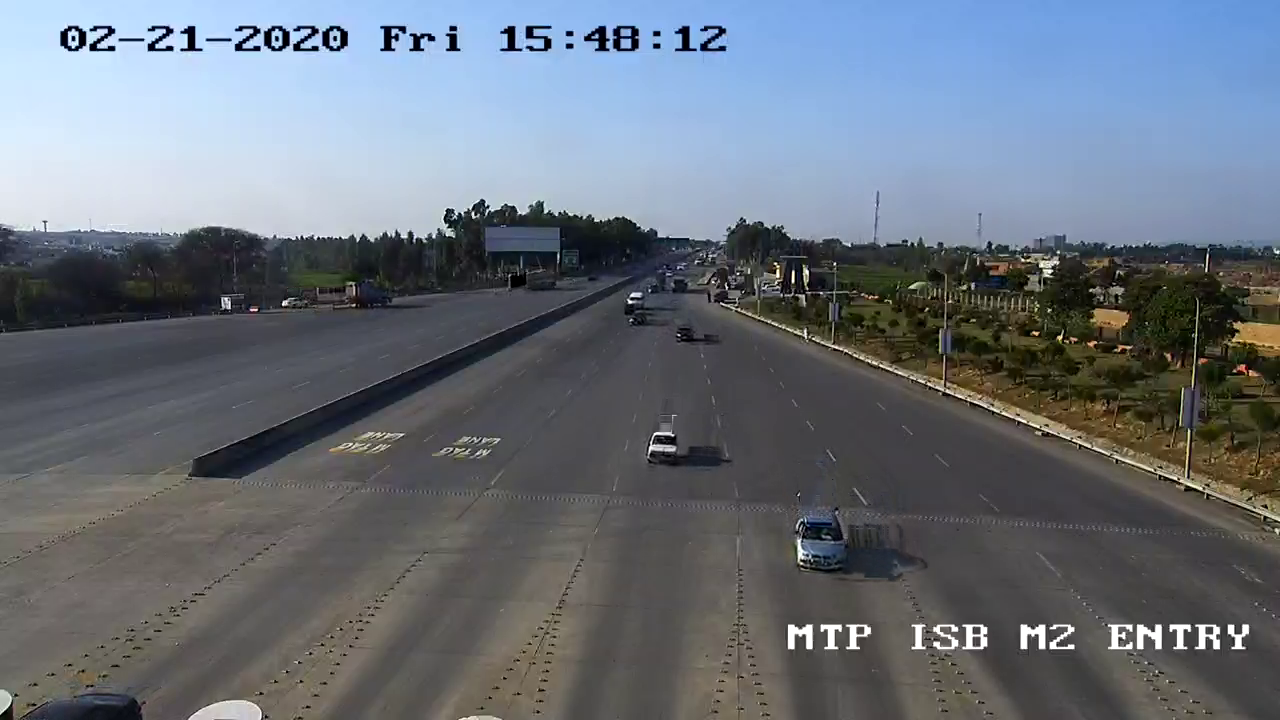f1: (639, 420, 685, 475)
